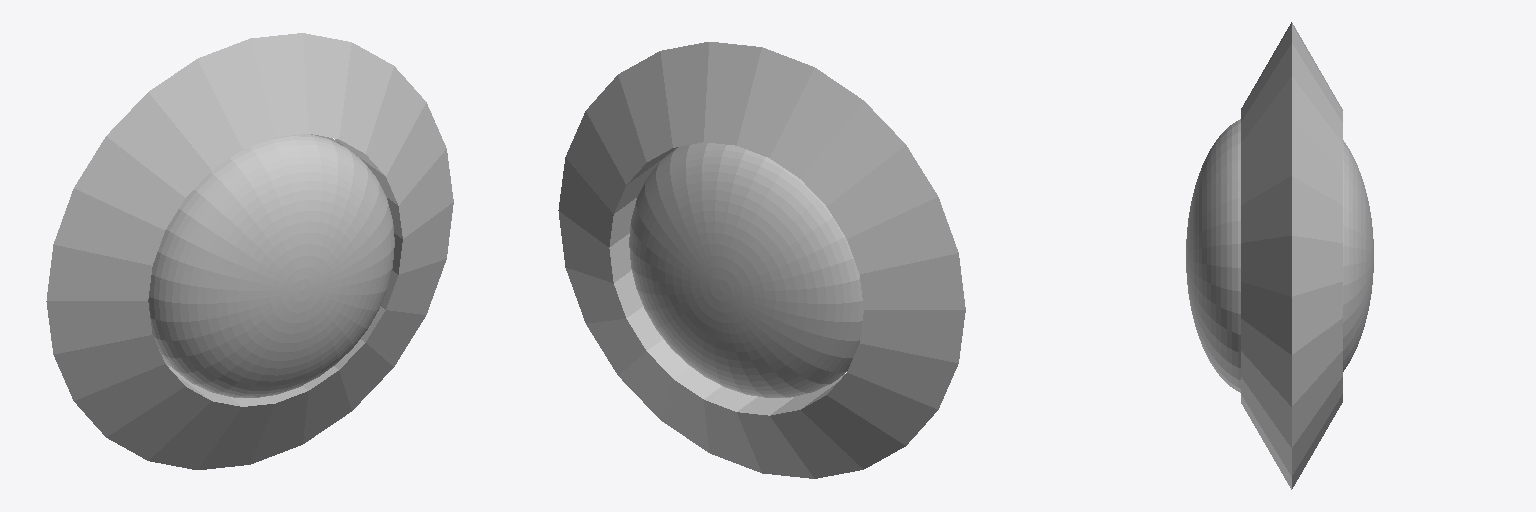
File: Spaceship.obj
3 renders of one model, left to right at view 1: azimuth 30°, elevation 25°; view 2: azimuth 150°, elevation 25°; view 3: azimuth 270°, elevation 25°, orthographic.
Visible parts, largest first — view 1: obj_0; view 2: obj_0; view 3: obj_0.
Boxes of the visible parts, x1,y1,x2,y2 form: obj_0: [46, 33, 453, 469]; obj_0: [558, 42, 965, 478]; obj_0: [1186, 22, 1373, 489].
Size of the model in its own units: 20 by 20 by 8.